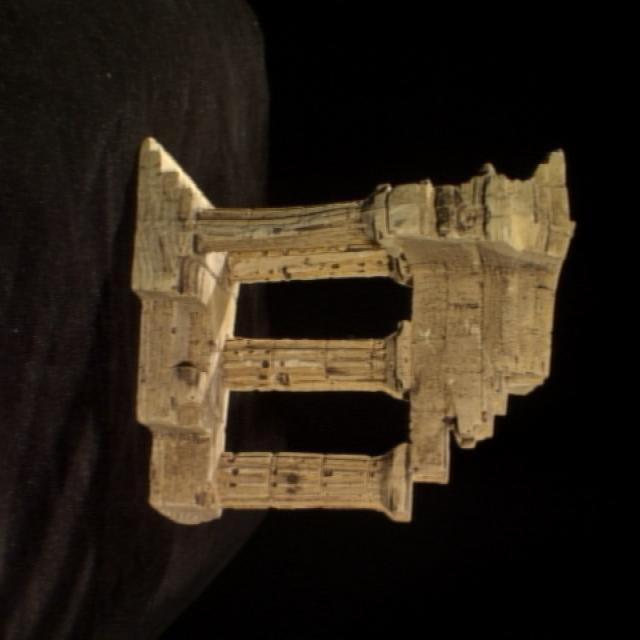Instance-Segmentation: (131, 139, 573, 523)
